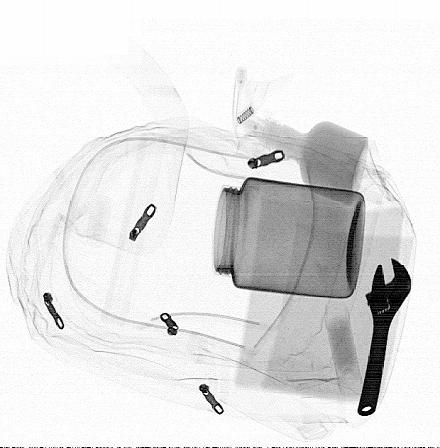Wrench: (355, 255, 414, 420)
